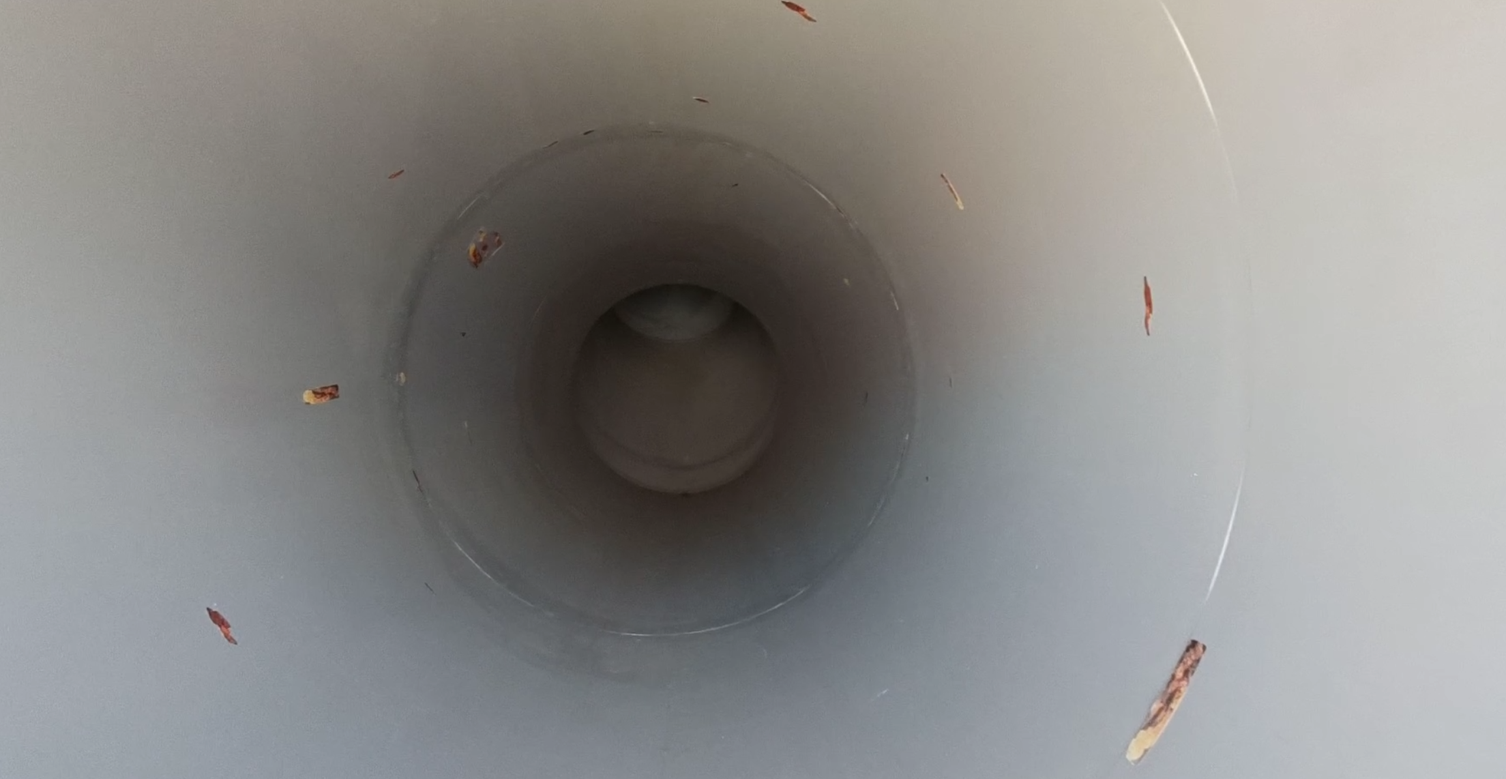circle1: (391, 117, 923, 642)
circle2: (563, 277, 789, 498)
